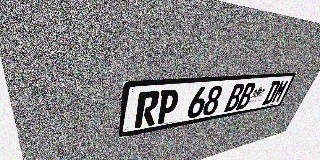6: (186, 86, 210, 119)
8: (201, 85, 225, 116)
B: (224, 83, 246, 112), (235, 82, 257, 110)
D: (262, 80, 281, 105)
M: (270, 80, 290, 103)
P: (155, 89, 180, 125)
R: (134, 90, 161, 129)
